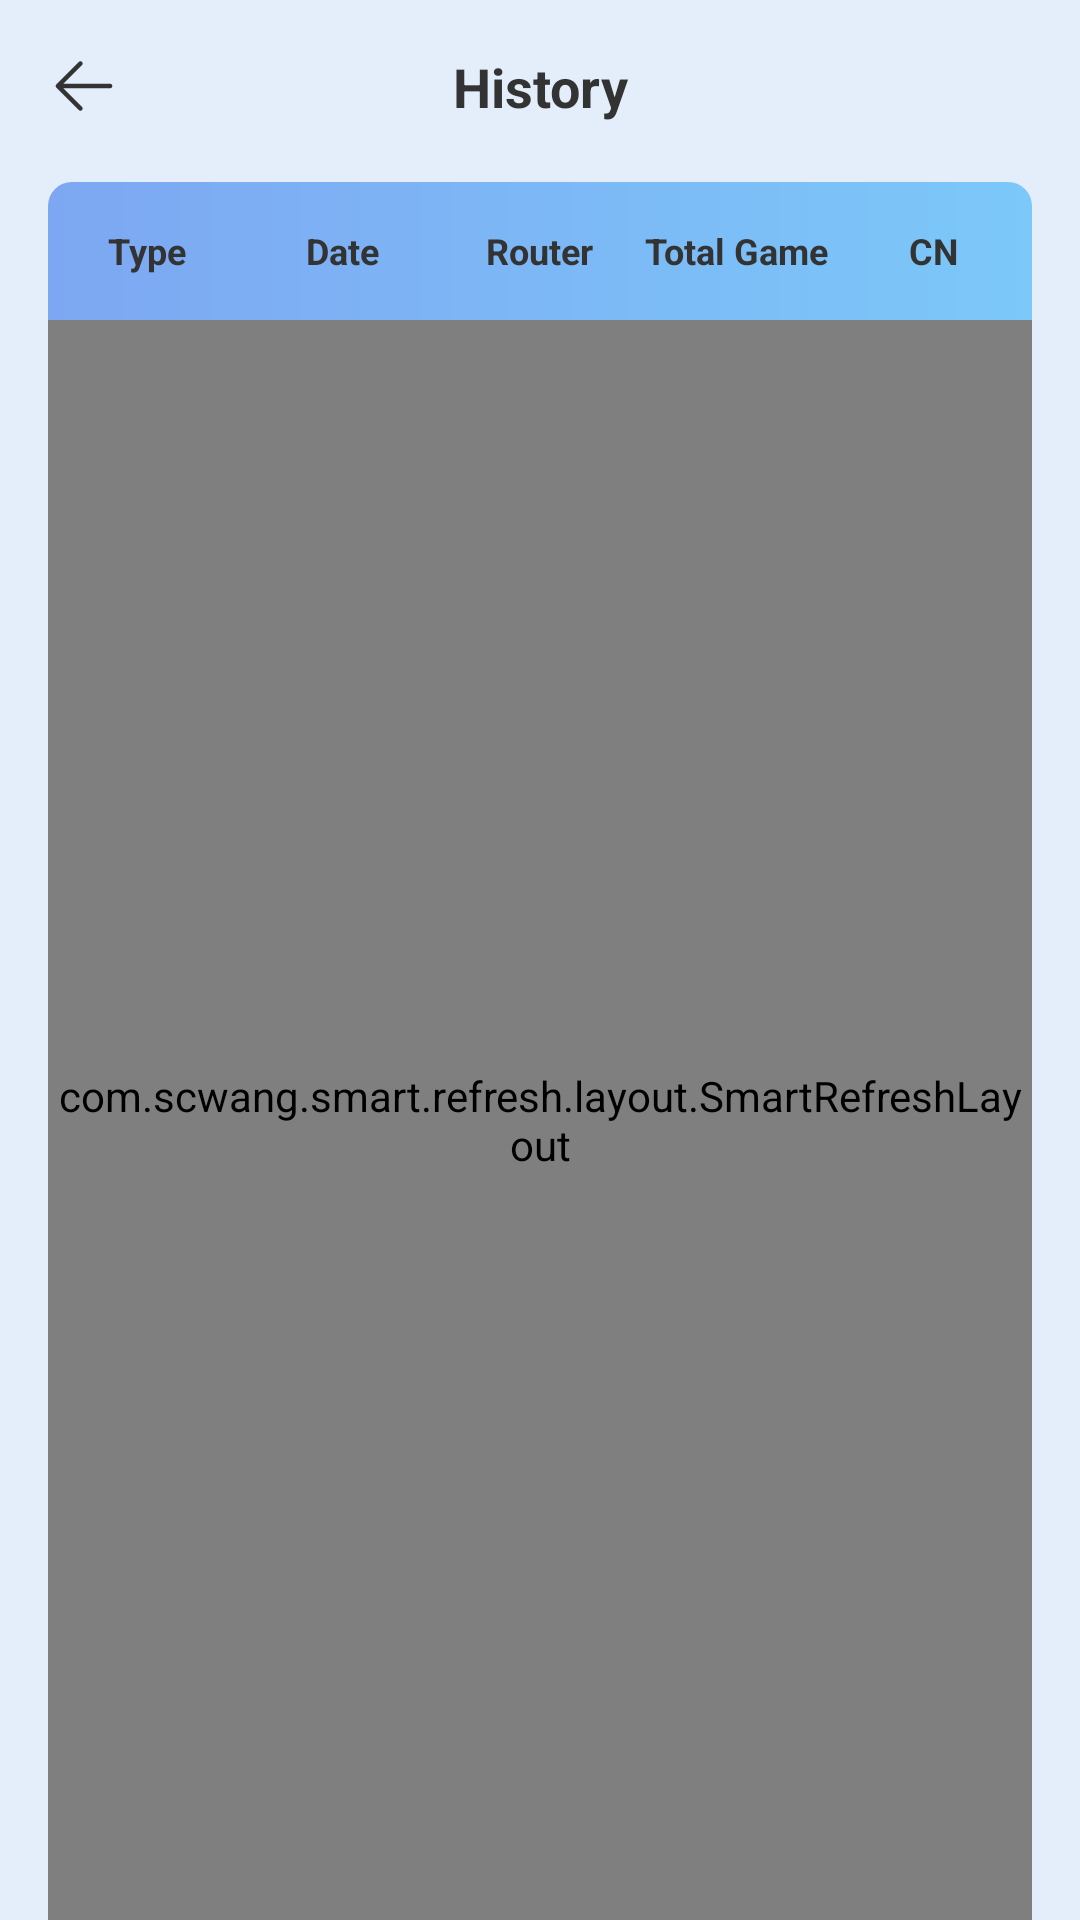

Icon click points for this 1080 × 1920 phone screenshot, format (x,y):
back: (84,86)
